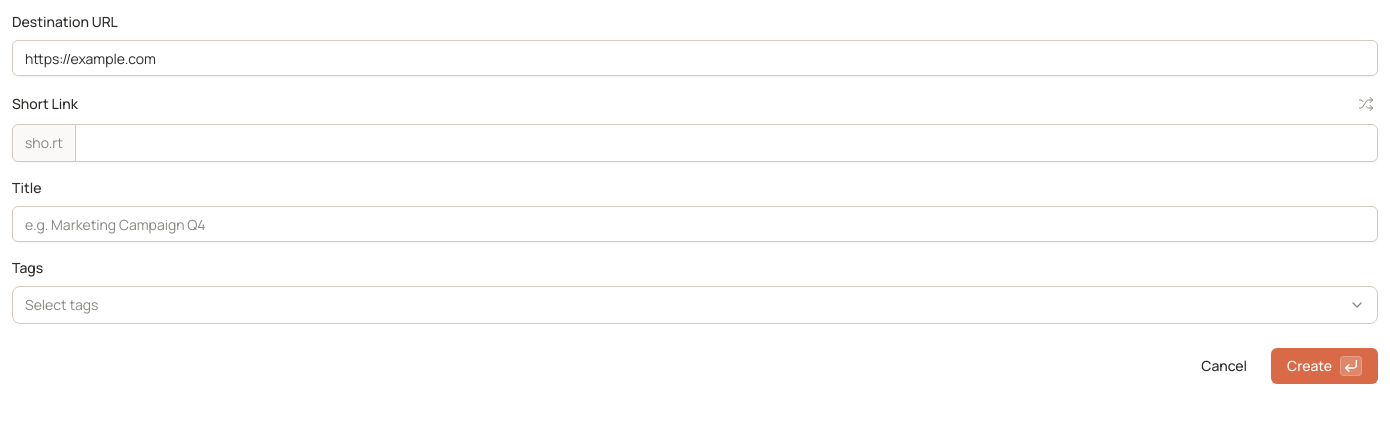
Test: LinkFormFields › submission › does not submit without a key
Click the button "Create": coordinates (1325, 366) x1=1271 y1=348 x2=1378 y2=384
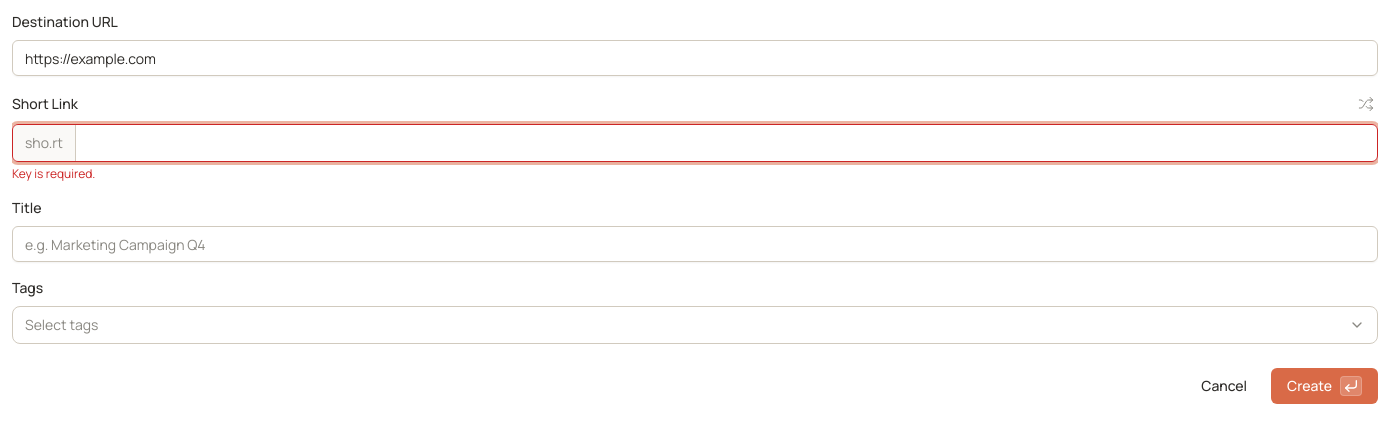
Result: the text "Key is required." is shown at x1=12 y1=165 x2=95 y2=182
